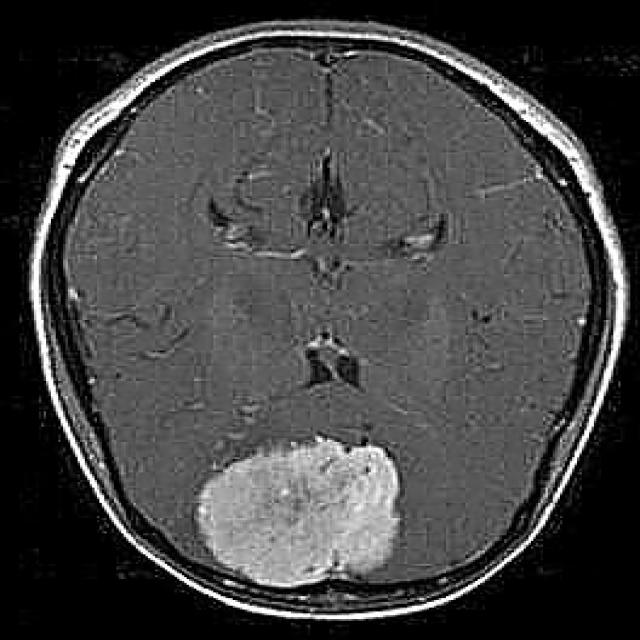Tumor-Cell: (178, 433, 442, 577)
